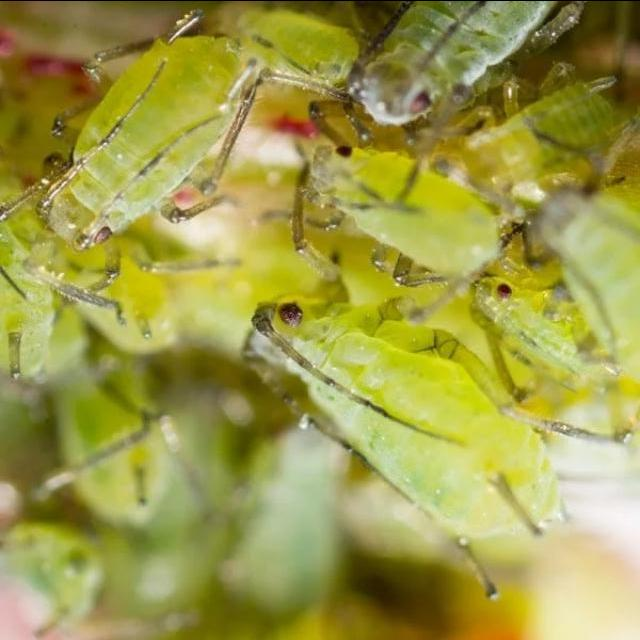Aphids: (0, 2, 640, 629)
